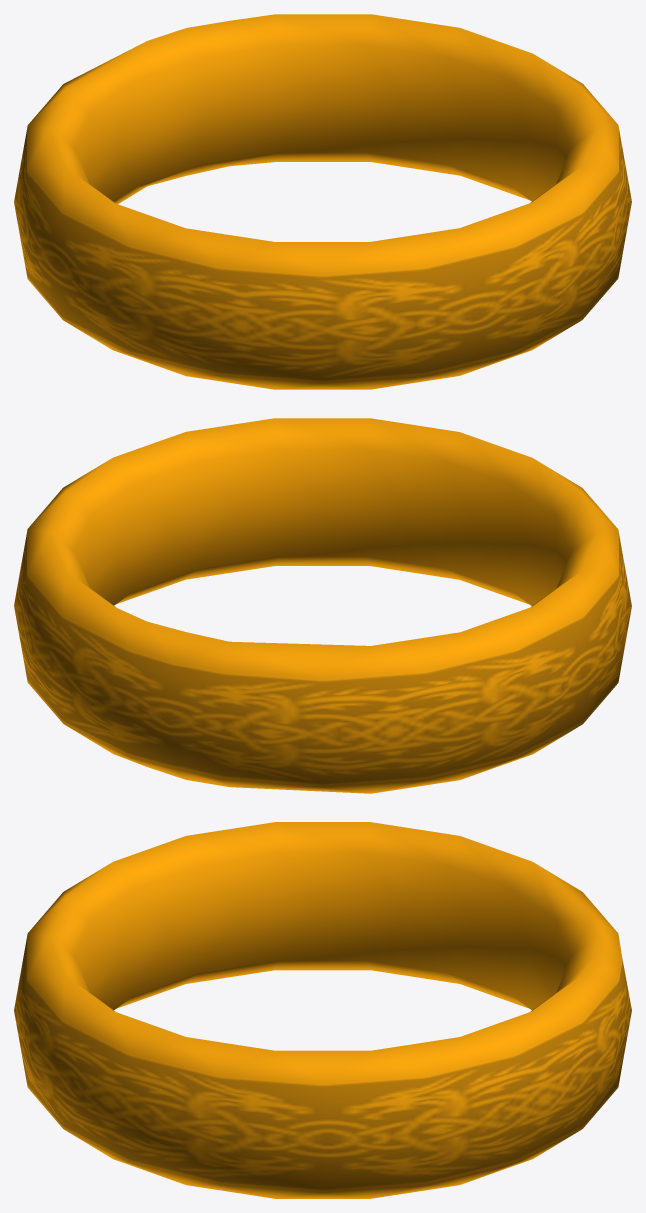
Rendered from magic_ring.glb.
3 views of the same model, one above another, from view 1: azimuth 30°, elevation 25°; view 2: azimuth 150°, elevation 25°; view 3: azimuth 270°, elevation 25° (orthographic).
Visible parts, largest first — view 1: Gold01:0; view 2: Gold01:0; view 3: Gold01:0.
Boxes of the visible parts, x1,y1,x2,y2 form: Gold01:0: (14, 14, 631, 389); Gold01:0: (14, 418, 631, 793); Gold01:0: (14, 822, 631, 1198).
Size of the model in its own units: 0.2149 by 0.0575 by 0.2176.
Materials: 1 (1 with a texture image).
